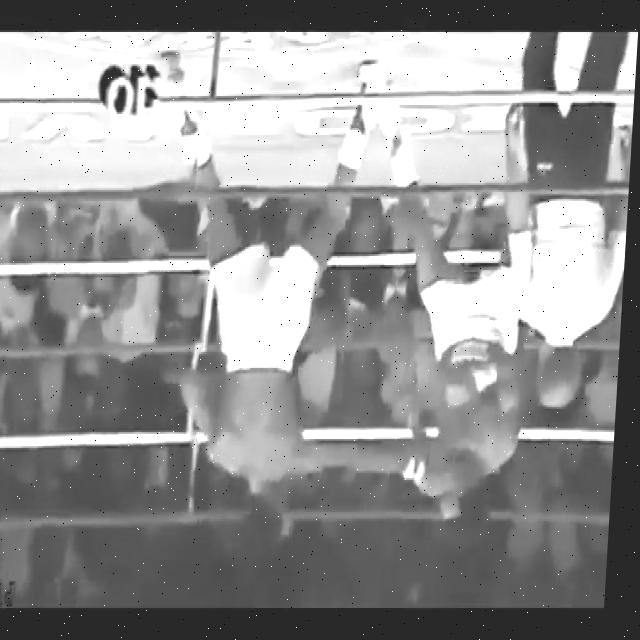Jab: (264, 358, 479, 529)
